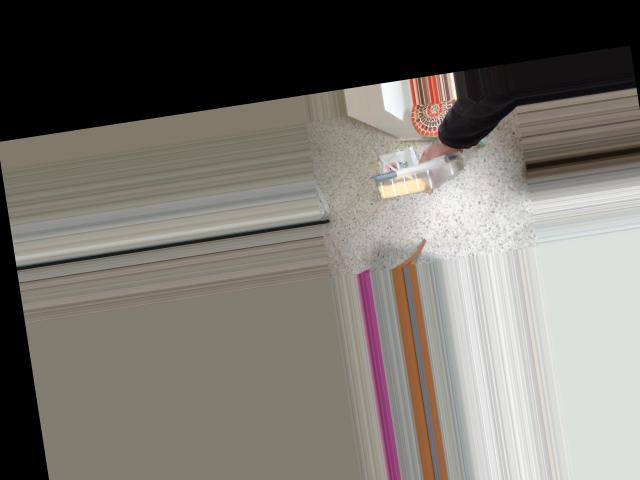cheese: (363, 107, 452, 225)
